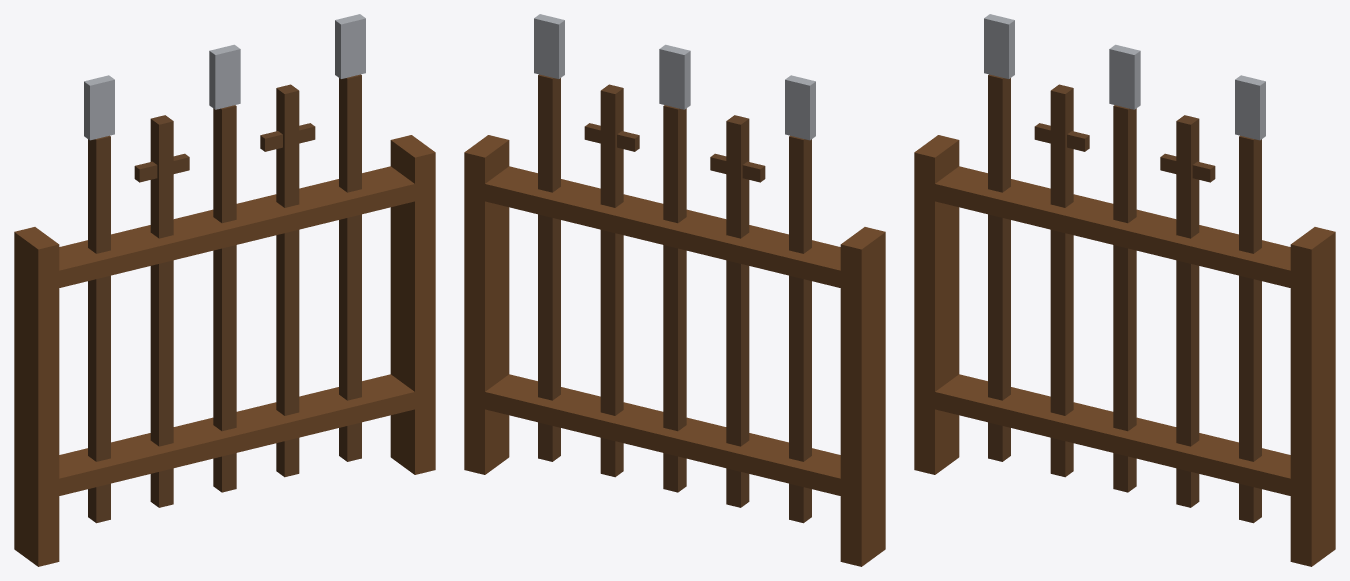
File: ld-weapon-rack.glb
The picture shows the model from 3 angles, left to right: view 1: azimuth 30°, elevation 25°; view 2: azimuth 150°, elevation 25°; view 3: azimuth 330°, elevation 25°; orthographic projection.
Parts seen in each view (by area): view 1: box-prop; view 2: box-prop; view 3: box-prop.
Part boxes in pixels (<box>): box-prop: <box>14,14,435,566</box>; box-prop: <box>464,14,885,566</box>; box-prop: <box>914,14,1335,566</box>.
Bounding box in the file's own units: 1.9 × 2.1 × 0.2.
